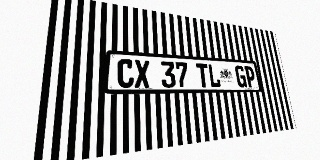3: (161, 61, 176, 88)
7: (175, 62, 189, 88)
C: (117, 59, 134, 88)
G: (234, 65, 247, 87)
L: (207, 64, 221, 87)
P: (244, 66, 256, 87)
T: (196, 63, 210, 88)
X: (134, 60, 150, 88)
